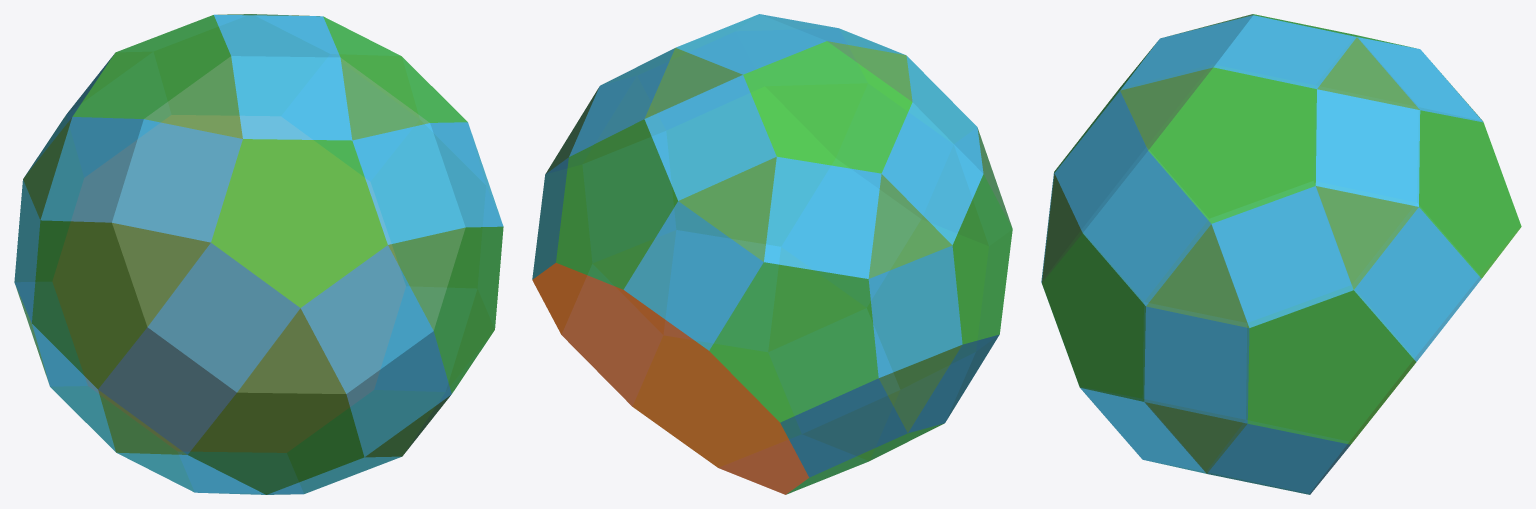
Rendered from j77_paragyrate_diminished_rhombicosidodecahedron.obj.
3 renders of one model, left to right at view 1: azimuth 30°, elevation 25°; view 2: azimuth 150°, elevation 25°; view 3: azimuth 270°, elevation 25°, orthographic. The views are drawn at different scales.
Bounding box in the file's own units: 1.97 × 1.96 × 1.94.
